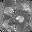people: (3, 7, 15, 17), (2, 19, 13, 29), (16, 15, 24, 23)
